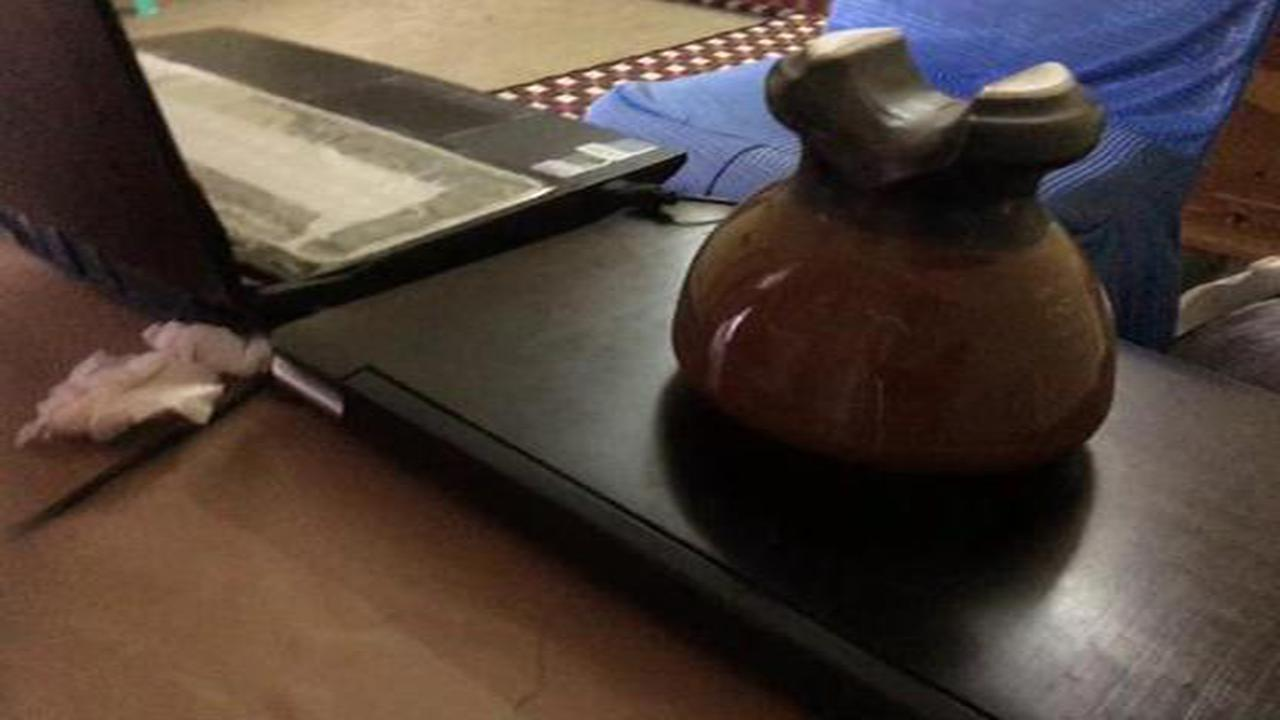insulator_pin: (653, 21, 1136, 494)
